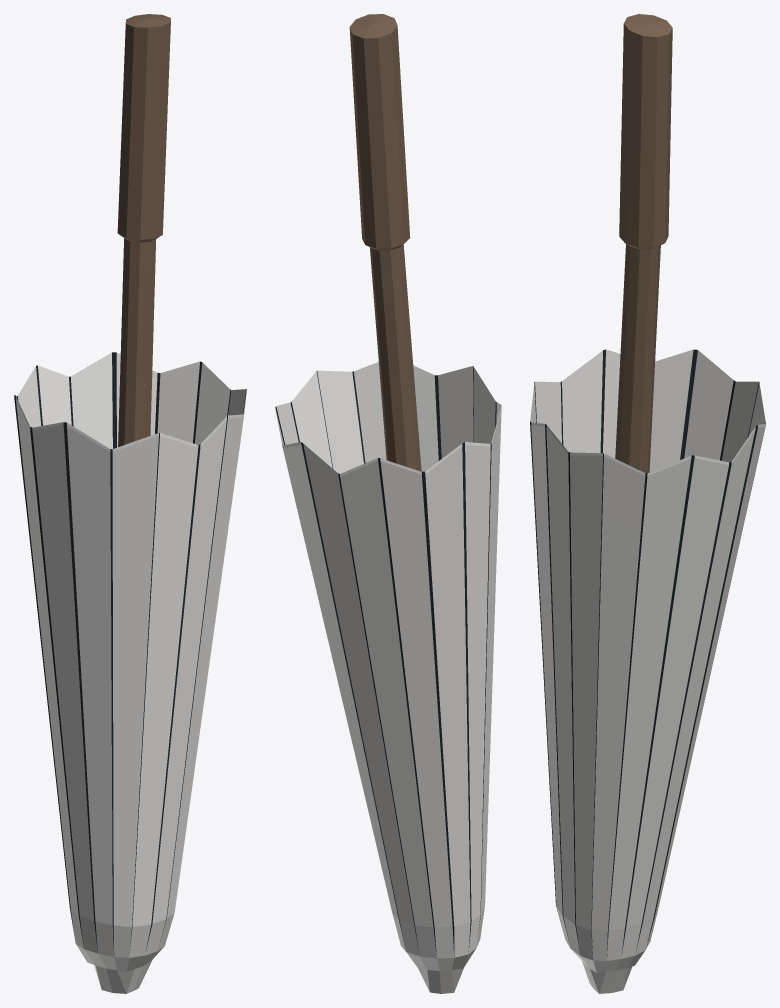
File: Closed_Umbrella_2.fbx
3 renders of one model, left to right at view 1: azimuth 30°, elevation 25°; view 2: azimuth 150°, elevation 25°; view 3: azimuth 270°, elevation 25°, orthographic. The views are drawn at different scales.
Visible parts, largest first — view 1: Closed_Umbrella_2; view 2: Closed_Umbrella_2; view 3: Closed_Umbrella_2.
Part boxes in pixels (bbox=[...]): Closed_Umbrella_2: bbox=[14, 14, 246, 993]; Closed_Umbrella_2: bbox=[275, 14, 501, 993]; Closed_Umbrella_2: bbox=[530, 14, 765, 993].
Bounding box in the file's own units: 24.07 × 23.72 × 110.
